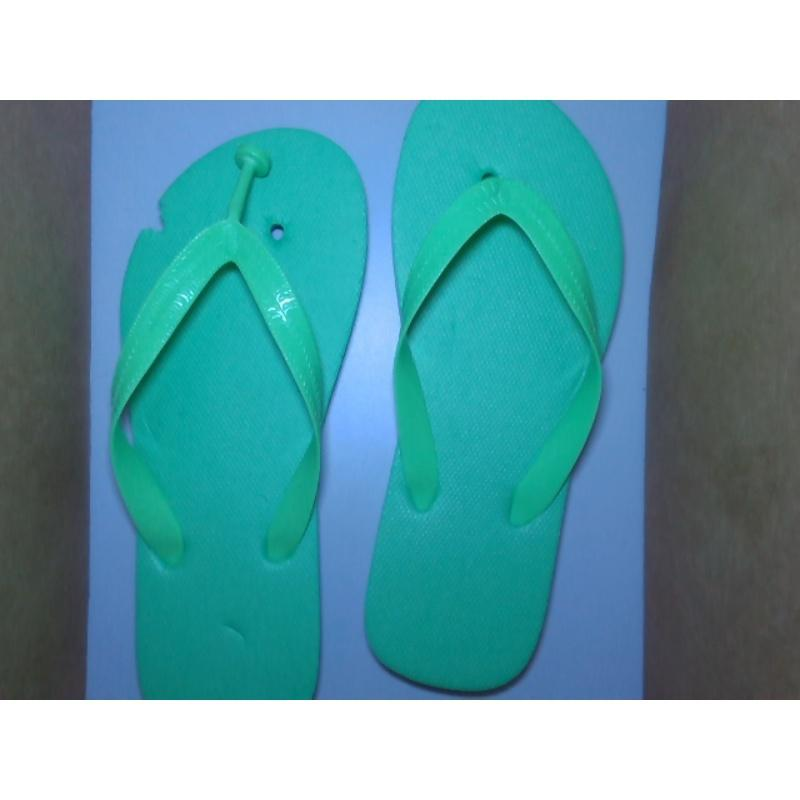chipped: (134, 184, 171, 248)
detached: (231, 137, 280, 194)
